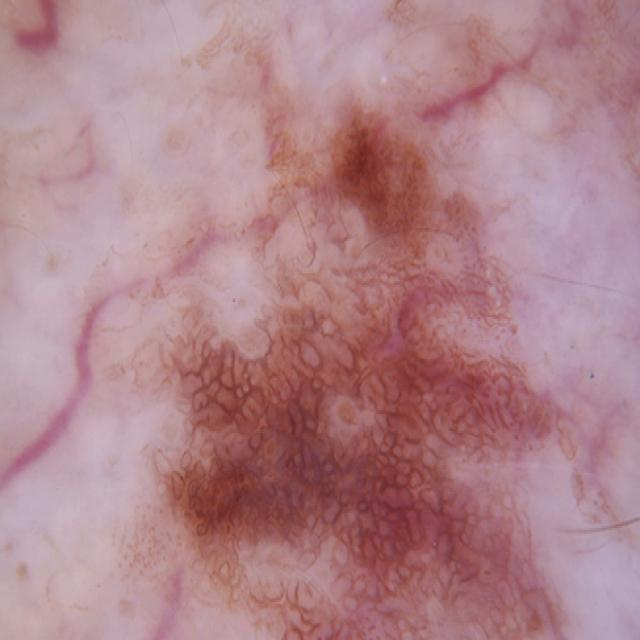Keratosis: (146, 91, 598, 640)
